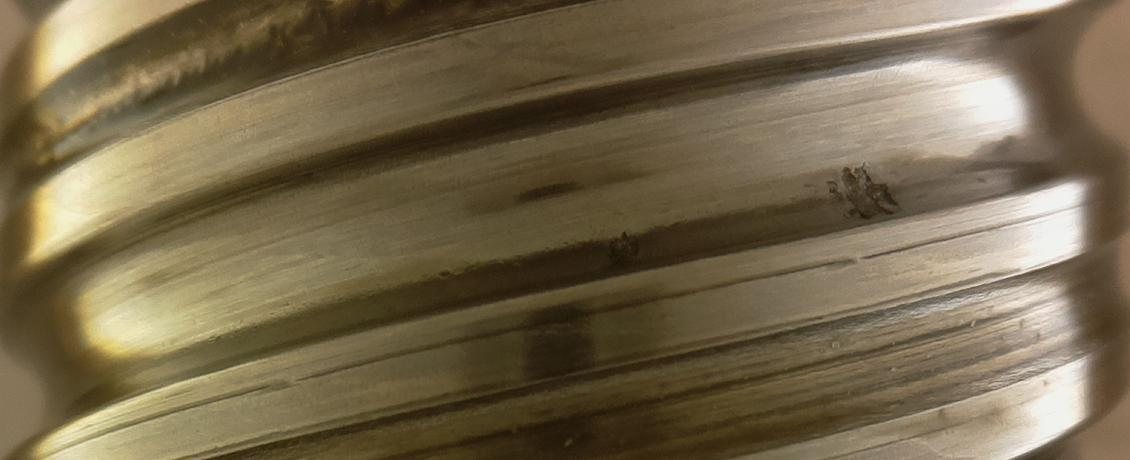pitting: (825, 160, 901, 219), (607, 231, 639, 260)
